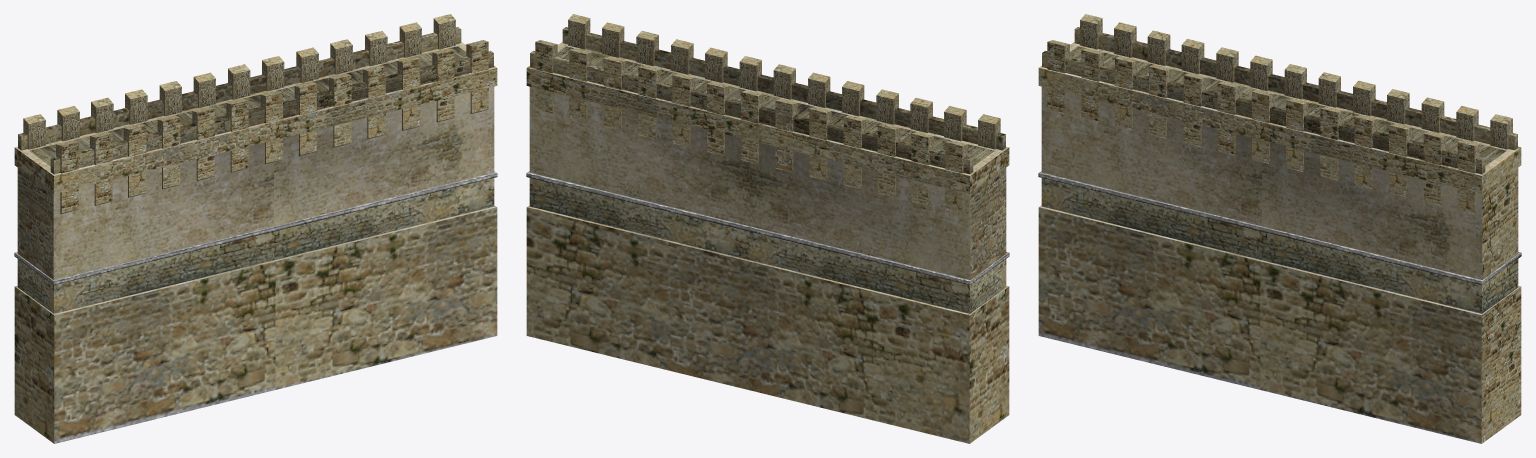
The model's file is s_athenians_wall_long.glb.
3 renders of one model, left to right at view 1: azimuth 30°, elevation 25°; view 2: azimuth 150°, elevation 25°; view 3: azimuth 330°, elevation 25°, orthographic.
Parts seen in each view (by area): view 1: s_athenians_wall_long_part0; view 2: s_athenians_wall_long_part0; view 3: s_athenians_wall_long_part0.
Boxes of the visible parts, left/top/right/bottom form: s_athenians_wall_long_part0: left=14, top=14, right=497, bottom=443; s_athenians_wall_long_part0: left=526, top=14, right=1009, bottom=443; s_athenians_wall_long_part0: left=1038, top=14, right=1521, bottom=443.
Size of the model in its own units: 9.07 by 5.77 by 1.4.
1 material, 1 textured.
